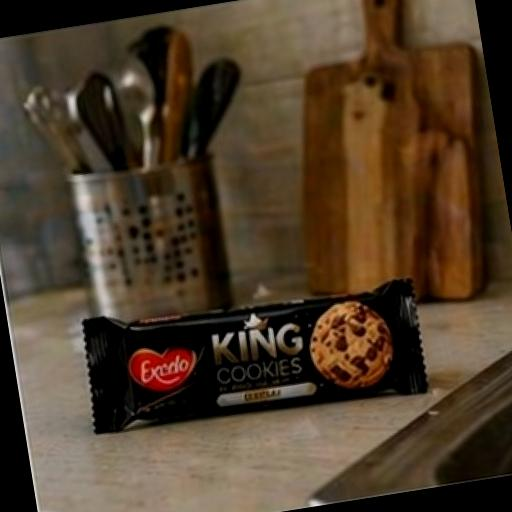king_cooking: (50, 218, 492, 488)
